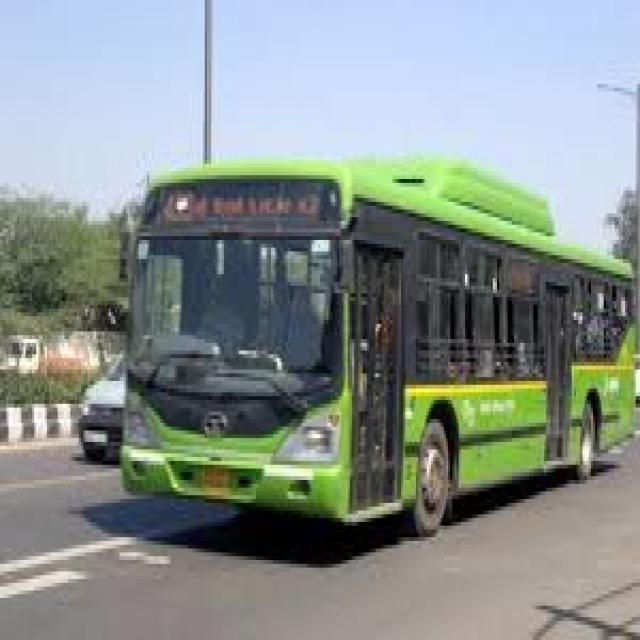Bus: (112, 176, 640, 526)
